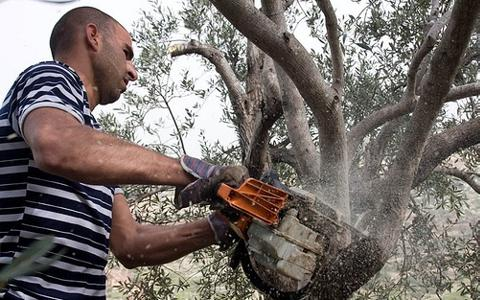person: (2, 7, 250, 300)
